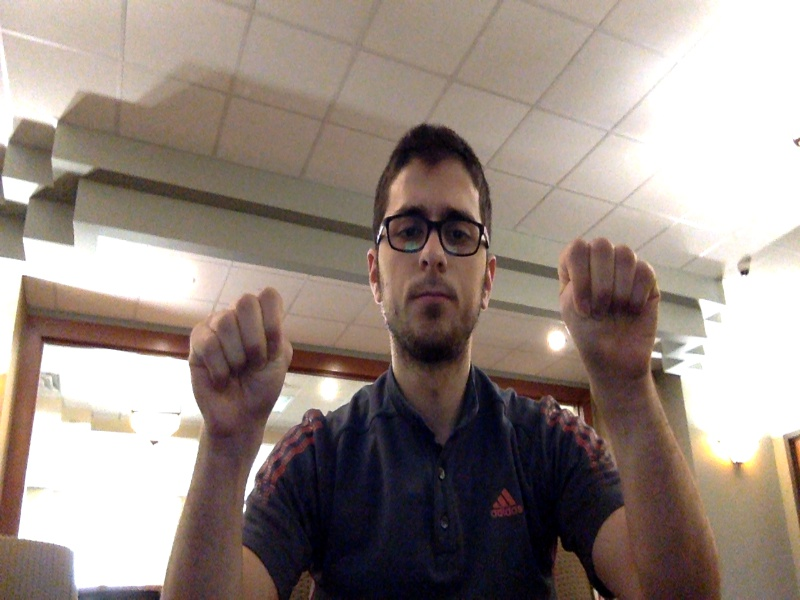0-hand: (189, 287, 292, 440), (559, 237, 661, 374)
